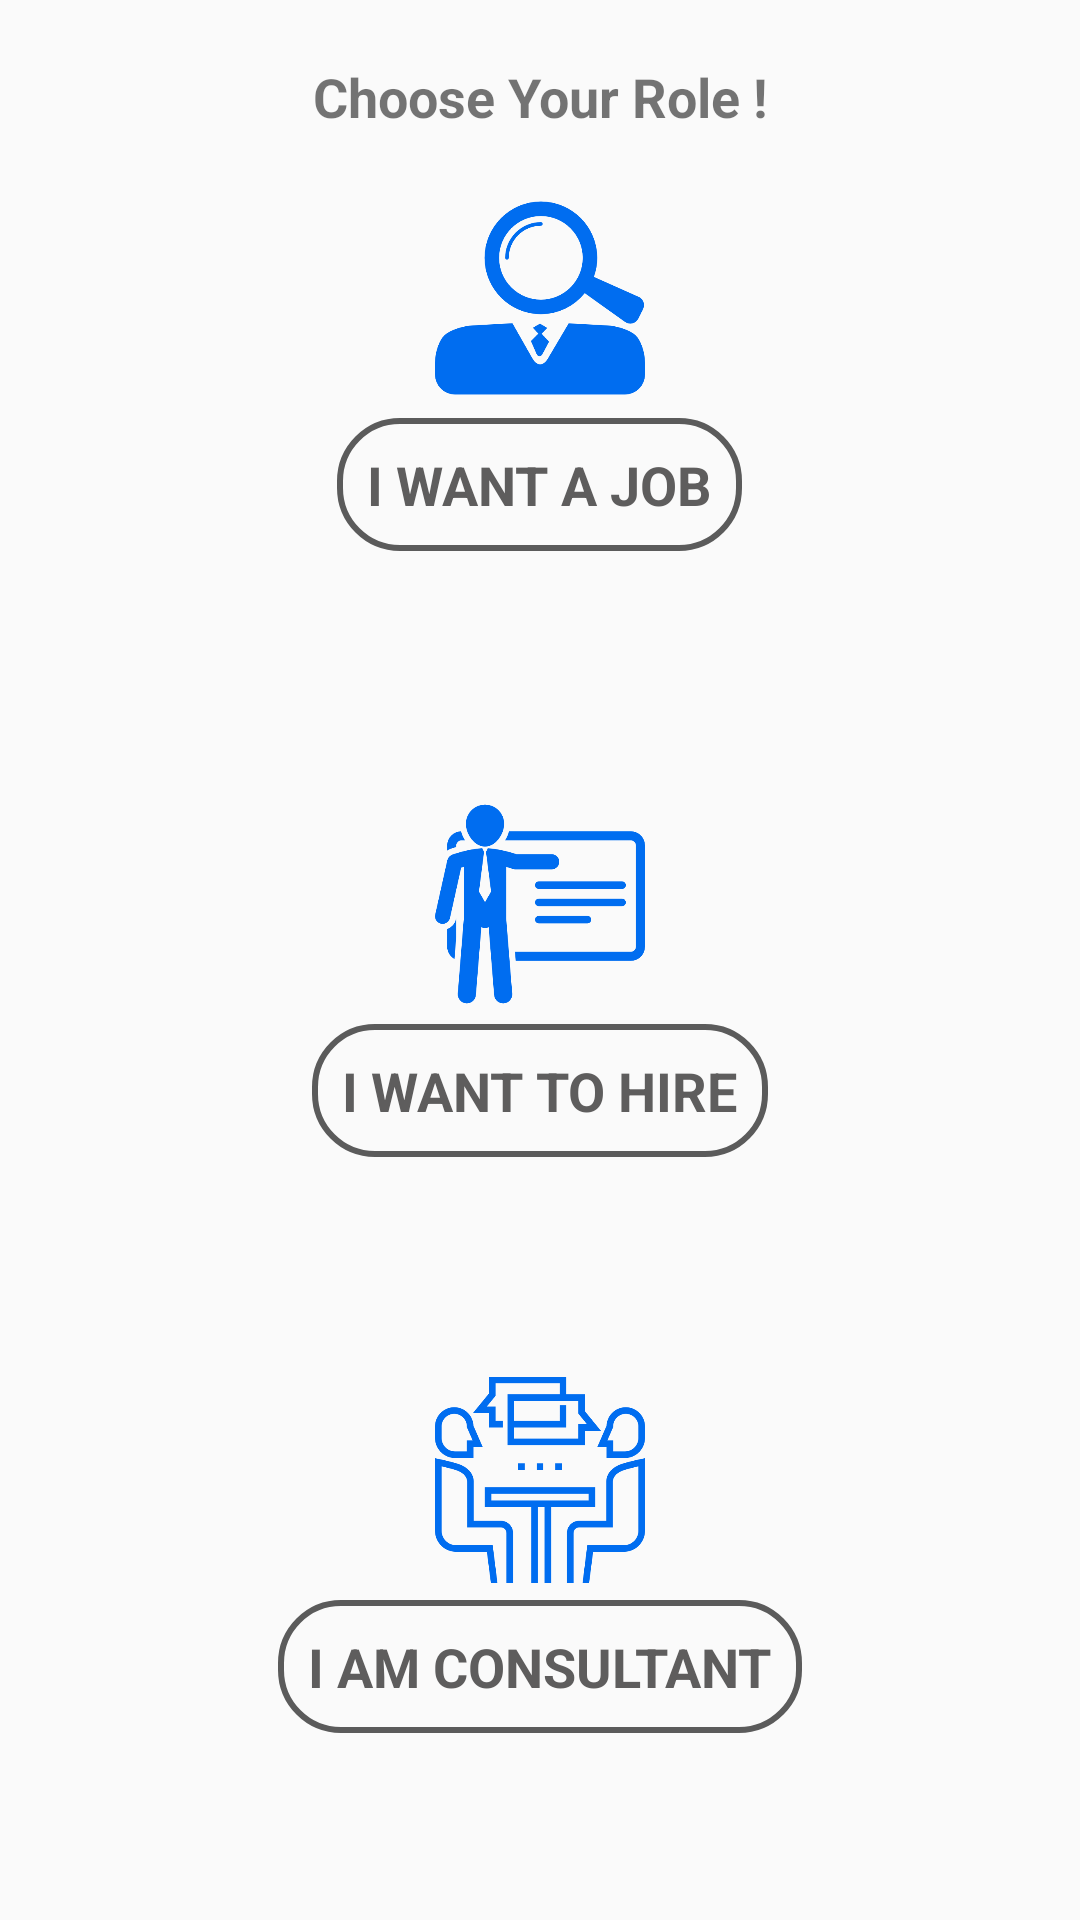

Icons on this 1080x1920 Android screen, each with the point to tap as (x=x, y=y):
consulting: (x=540, y=1480)
job seeker: (x=540, y=298)
recruitment: (x=540, y=904)
